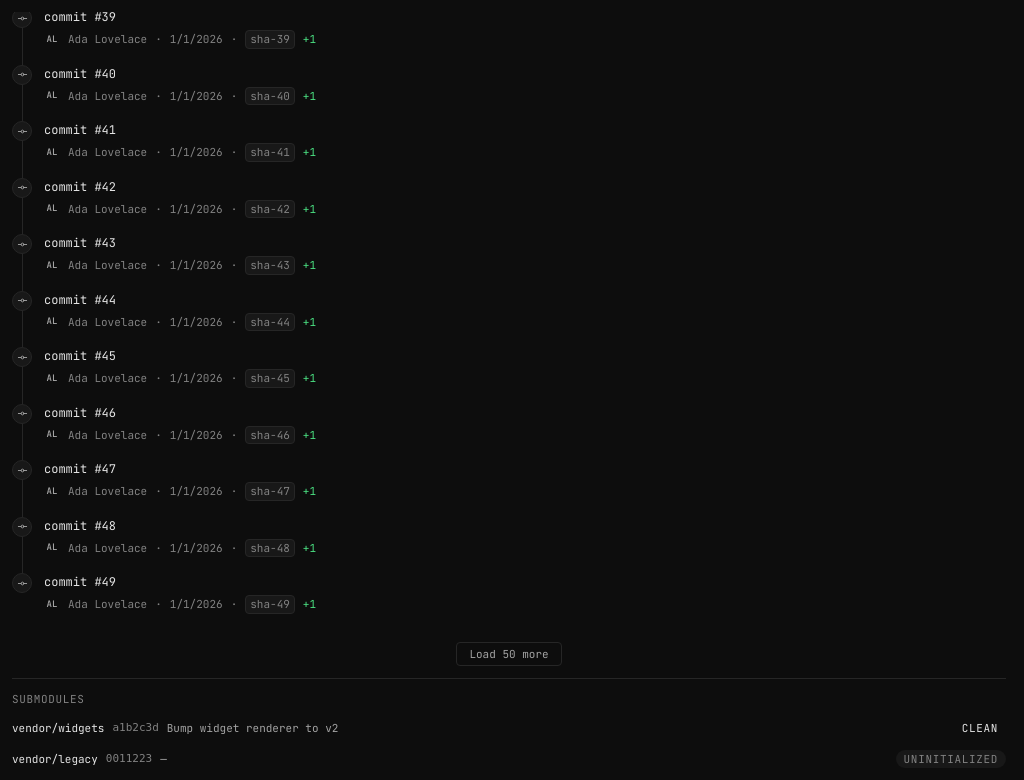
Test: VcsPanel › Requirement 3 — clicking Load more fetches the next page and appends it
Click the button "Load 50 more" at (509, 654), box [456, 642, 562, 666]
(page scrolled)
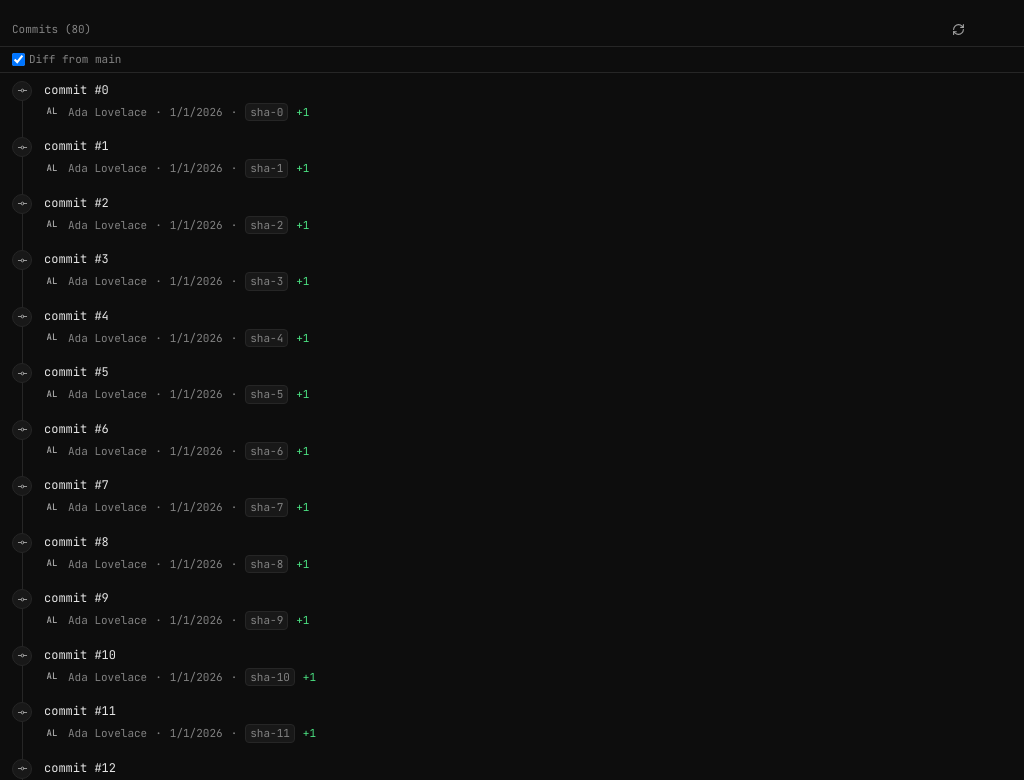
Expected: the text "Commits (80)" is shown, [12, 21, 91, 37]
Expected: the button "Load 50 more" is gone
